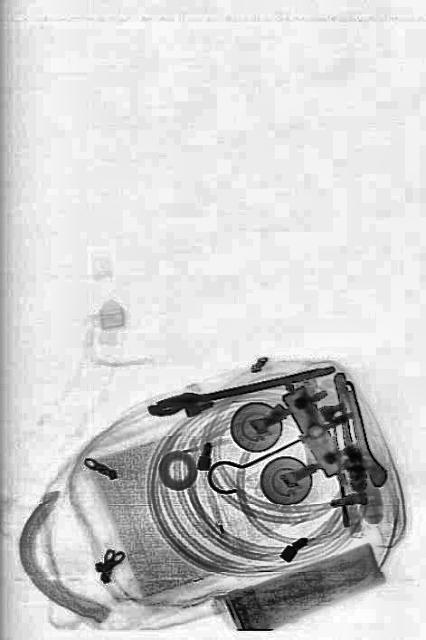Wrench: (146, 356, 334, 419), (335, 368, 389, 494)
